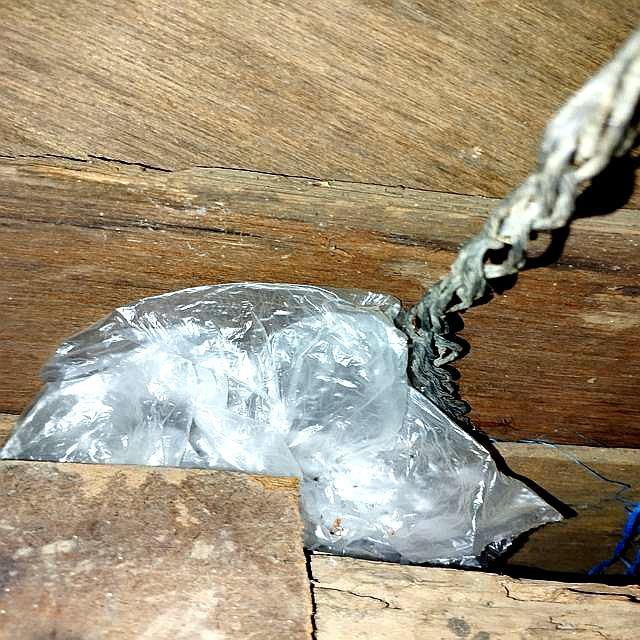Non-biodegradable: (5, 281, 569, 567)
